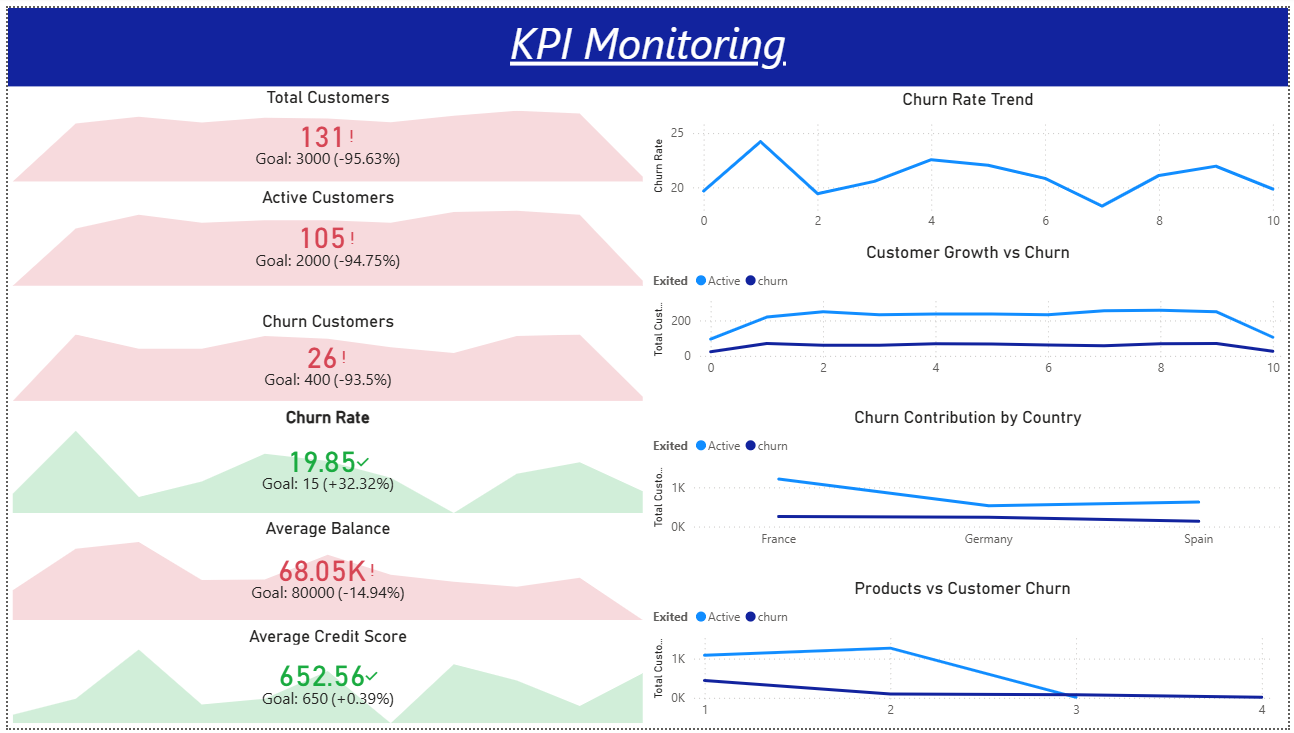

This screenshot's page, from the dashboard's own definition file:
{"tool":"powerbi","page":{"name":"Page 3","canvas":[1280,720],"ordinal":2},"visuals":[{"type":"kpi","title":"Churn Rate","fields":{"Indicator":["Sheet1.Churn Rate"],"TrendLine":["Sheet1.Tenure"],"Goal":["Sheet1.Target Churn Rate"]},"box":[0,398.6,640,111.4],"z":0},{"type":"kpi","title":"Active Customers","fields":{"Indicator":["Sheet1.Active Customers"],"Goal":["Sheet1.Target Active Customers"],"TrendLine":["Sheet1.Tenure"]},"box":[0,178.6,640,104.3],"z":1000},{"type":"kpi","title":"Average Balance","fields":{"Indicator":["Sheet1.Average Balance"],"Goal":["Sheet1.Target Balance"],"TrendLine":["Sheet1.Tenure"]},"box":[0,510,640,107.1],"z":2000},{"type":"kpi","title":"Average Credit Score ","fields":{"Indicator":["Sheet1.Average Credit Score"],"TrendLine":["Sheet1.Tenure"],"Goal":["Sheet1.Target Credit Score"]},"box":[0,617.1,640,102.9],"z":3000},{"type":"kpi","title":"Total Customers ","fields":{"Indicator":["Sheet1.Total Customers"],"TrendLine":["Sheet1.Tenure"],"Goal":["Sheet1.Target Total Customers"]},"box":[0,78.6,640,100],"z":4000},{"type":"kpi","title":"Churn Customers","fields":{"Indicator":["Sheet1.Churn Customers"],"TrendLine":["Sheet1.Tenure"],"Goal":["Sheet1.Target Churn Customers"]},"box":[0,302.9,640,95.7],"z":5000},{"type":"textbox","box":[0,0,1280,78.6],"z":6000},{"type":"lineChart","title":"Churn Rate Trend","fields":{"Category":["Sheet1.Tenure"],"Y":["Sheet1.Churn Rate"]},"box":[640,81.4,640,150],"z":7000},{"type":"lineChart","title":"Customer Growth vs Churn","fields":{"Category":["Sheet1.Tenure"],"Y":["Sheet1.Total Customers"],"Series":["Sheet1.Exited"]},"box":[640,234.3,640,144.3],"z":8000},{"type":"lineChart","title":"Churn Contribution by Country","fields":{"Category":["Sheet1.Geography"],"Y":["Sheet1.Total Customers"],"Series":["Sheet1.Exited"]},"box":[640,398.6,640,150],"z":9000},{"type":"lineChart","title":"Products vs Customer Churn","fields":{"Y":["Sheet1.Total Customers"],"Category":["Sheet1.NumOfProducts"],"Series":["Sheet1.Exited"]},"box":[640,570,629,150],"z":10000}]}

Visuals, with their boxes in screenshot pixels (x1, y1, x2, y2), scaled from the page's 1280x720 canvas onto the 1294x733 screenshot:
"Churn Rate" kpi: Rect(0, 406, 647, 519)
"Active Customers" kpi: Rect(0, 182, 647, 288)
"Average Balance" kpi: Rect(0, 519, 647, 628)
"Average Credit Score " kpi: Rect(0, 628, 647, 732)
"Total Customers " kpi: Rect(0, 80, 647, 182)
"Churn Customers" kpi: Rect(0, 308, 647, 406)
textbox: Rect(0, 0, 1293, 80)
"Churn Rate Trend" lineChart: Rect(647, 83, 1293, 236)
"Customer Growth vs Churn" lineChart: Rect(647, 239, 1293, 385)
"Churn Contribution by Country" lineChart: Rect(647, 406, 1293, 559)
"Products vs Customer Churn" lineChart: Rect(647, 580, 1283, 732)
